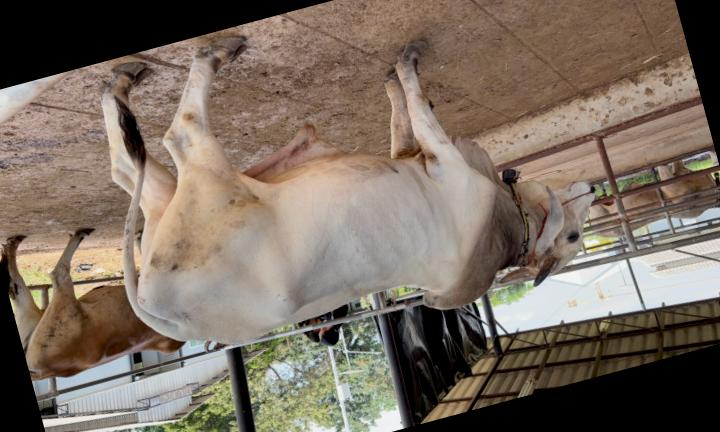Brahman: (101, 37, 592, 342)
